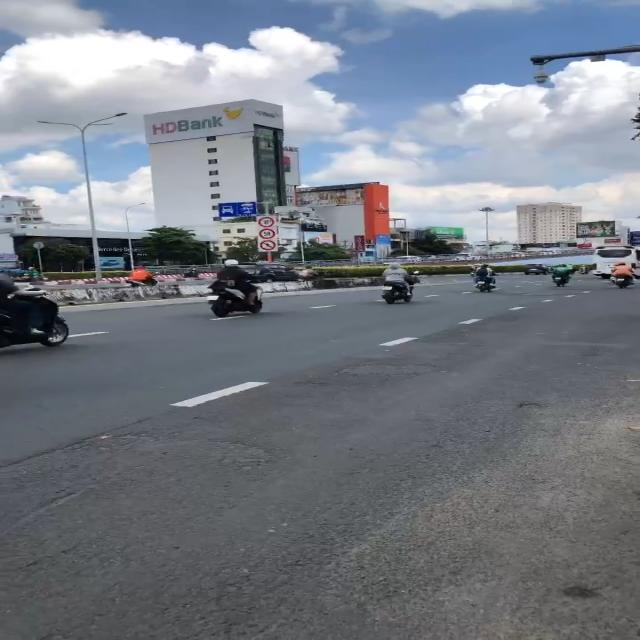Bien bao cam nguoi di bo: (256, 239, 277, 251)
Bien bao toc do toi da cho phep: (255, 227, 278, 239)
